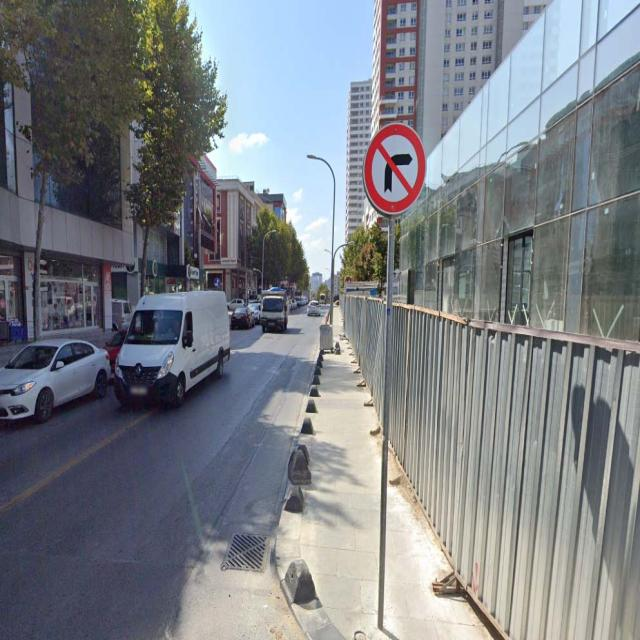sagadonulmez: (362, 122, 426, 217)
